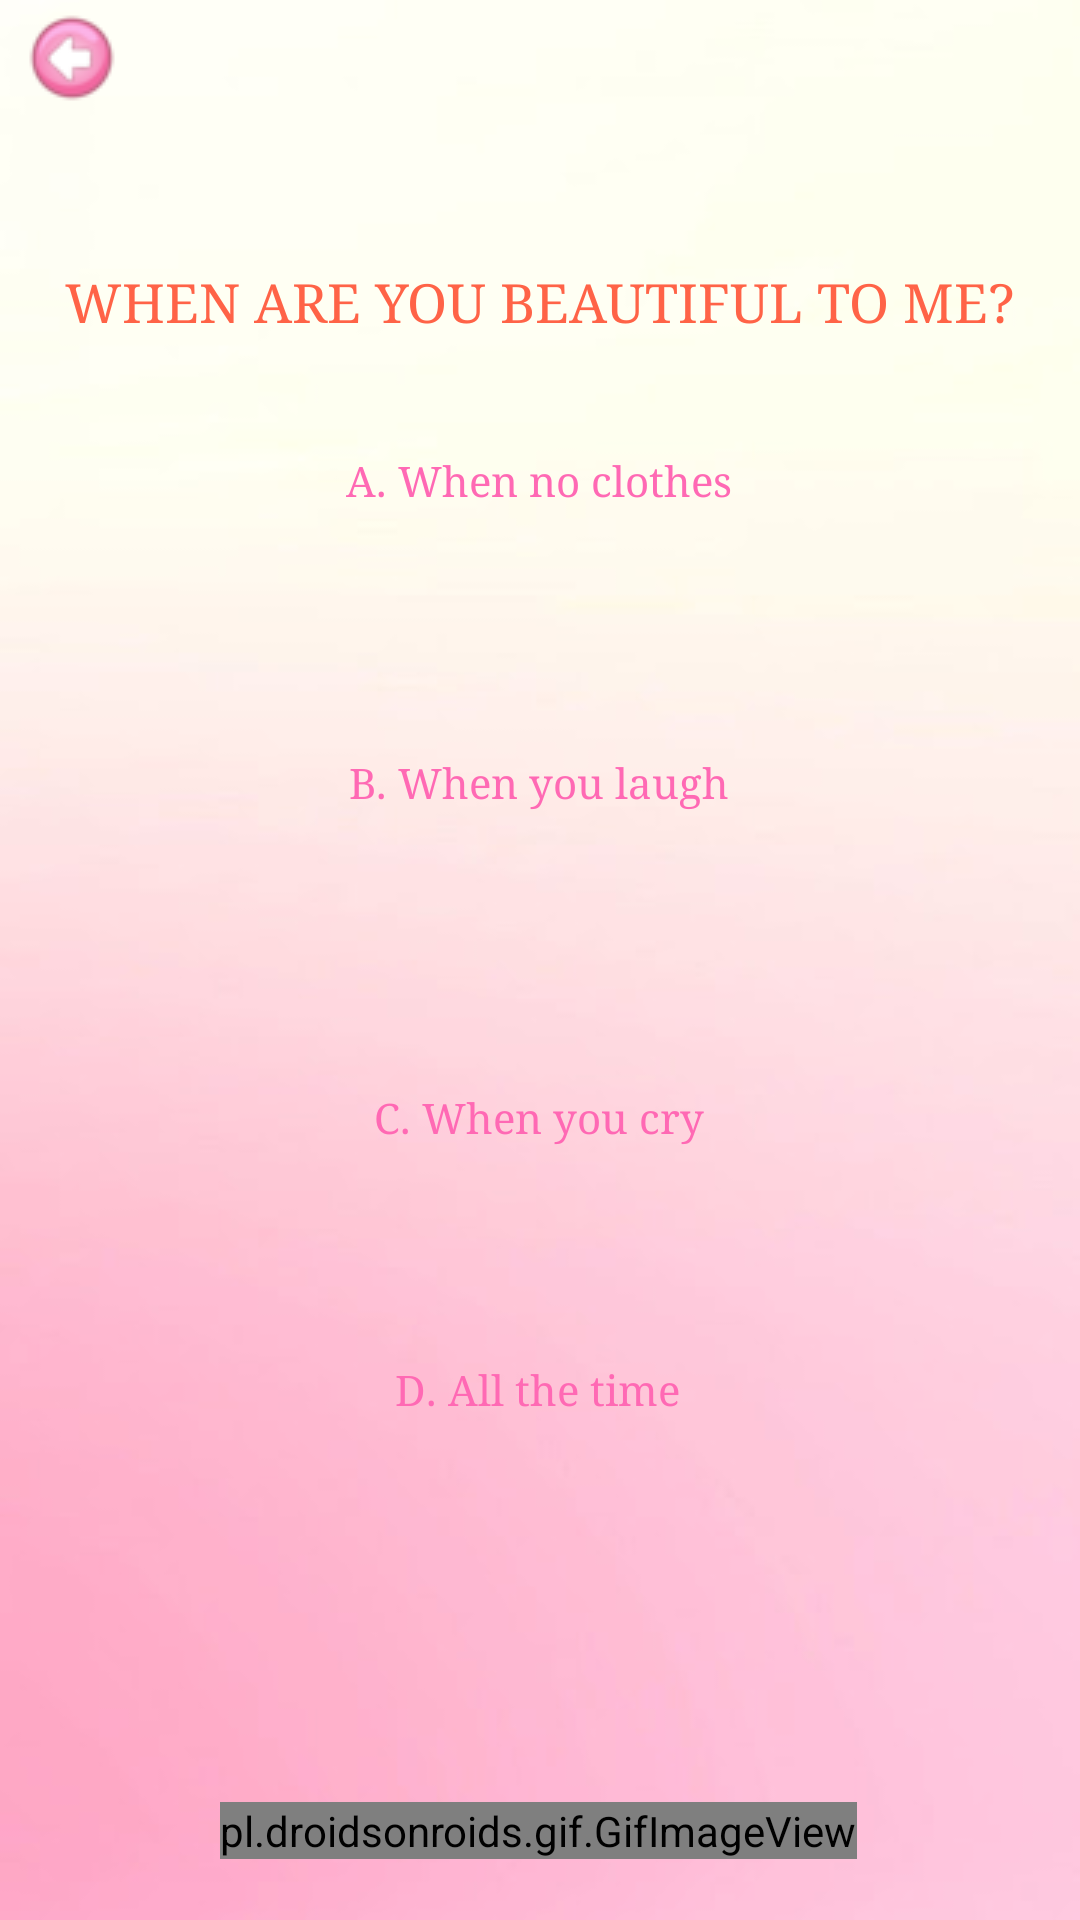

Named icons in this screenshot (1080px x 1920px) and their centers, point (x, y):
backicon: point (72, 58)
